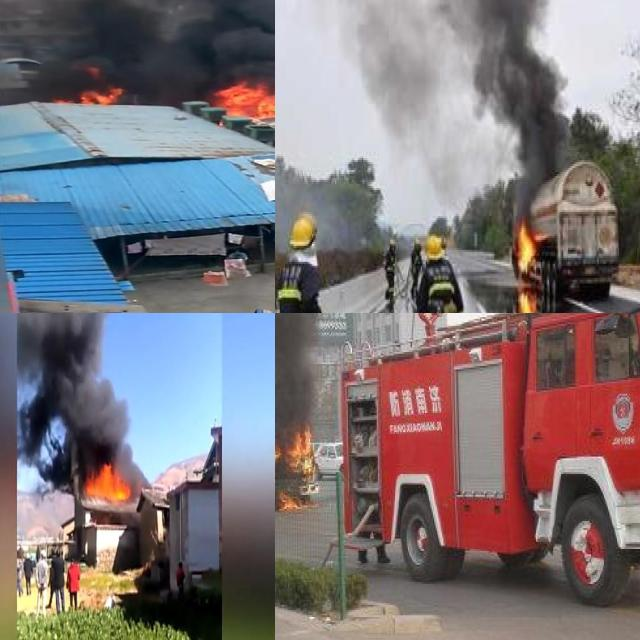fire: (275, 425, 315, 507), (211, 79, 275, 119), (513, 217, 538, 313), (53, 75, 127, 105), (85, 465, 131, 505)
smoke: (328, 0, 567, 191), (6, 0, 275, 80), (24, 370, 131, 462), (17, 313, 114, 392), (275, 313, 341, 427), (275, 172, 345, 244)
